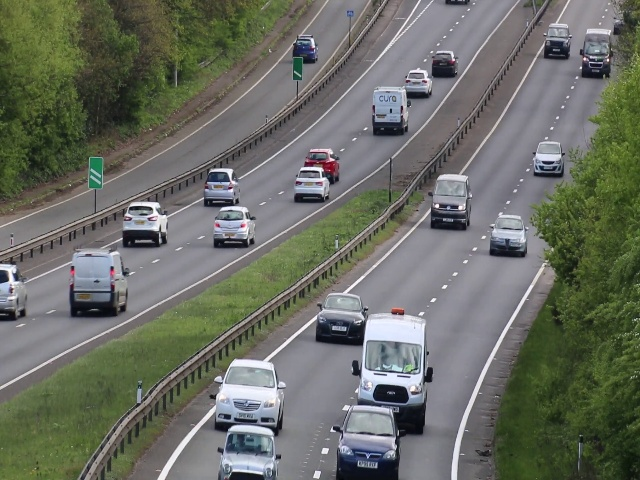car: (359, 328, 430, 402), (336, 406, 401, 478), (213, 361, 281, 423), (68, 248, 129, 317), (218, 430, 281, 480), (314, 292, 364, 344), (429, 174, 472, 230), (122, 202, 170, 247), (211, 204, 257, 246), (371, 84, 410, 133), (490, 212, 528, 256), (582, 27, 612, 80), (1, 263, 28, 318), (202, 167, 241, 202), (531, 142, 567, 174), (295, 166, 328, 200), (544, 22, 570, 60), (432, 49, 458, 77), (407, 68, 432, 96), (293, 35, 316, 58), (308, 148, 337, 165)
